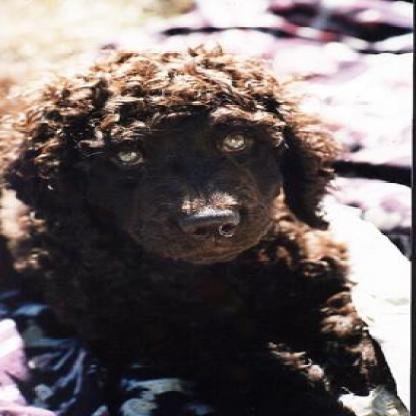Irish_water_spaniel: (0, 42, 381, 414)
